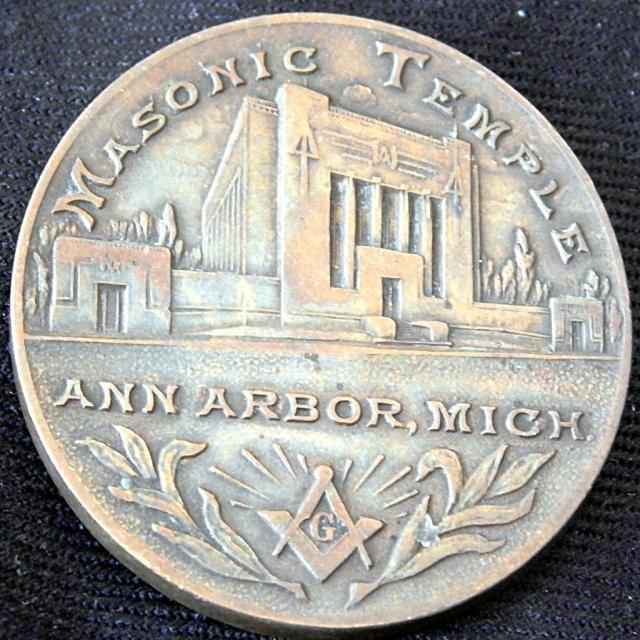Coin: (11, 9, 637, 638)
